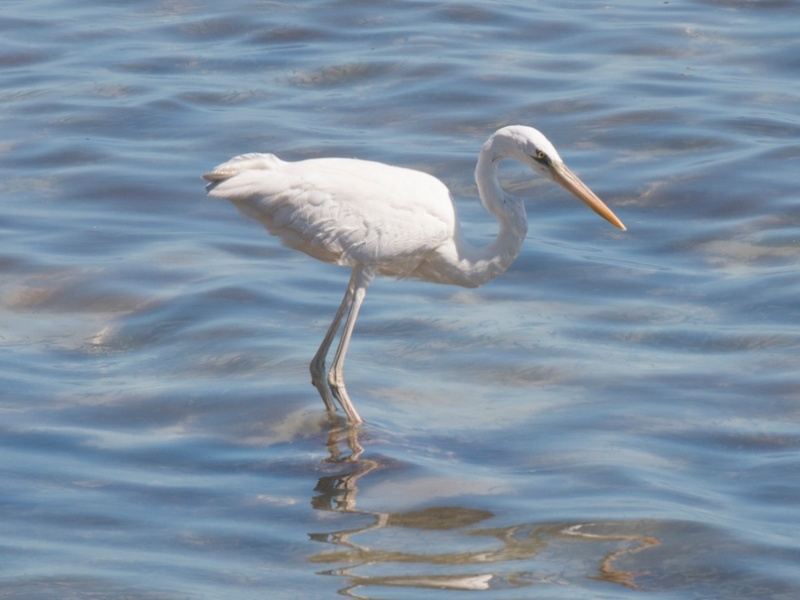heron: (202, 118, 633, 434)
